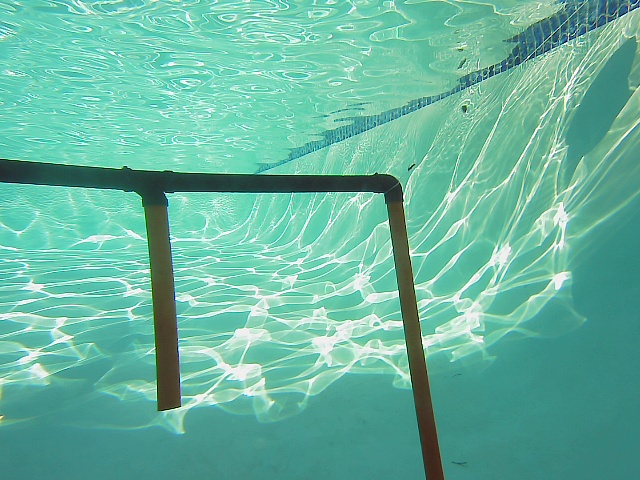Gate: (384, 196, 448, 480), (138, 195, 184, 412)
